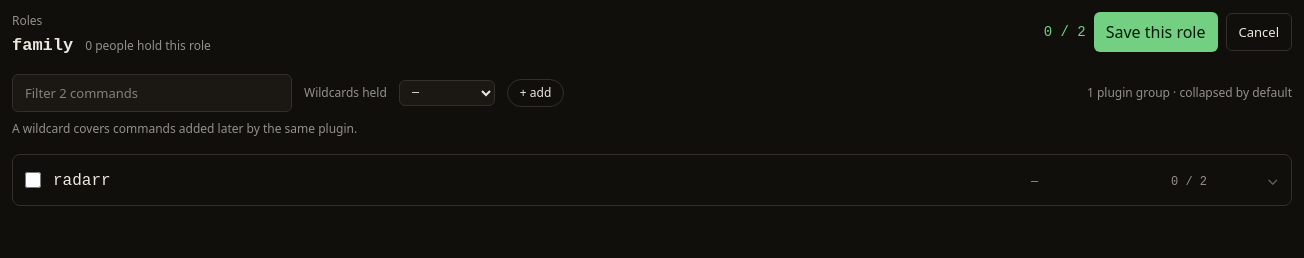
Test: the role editor screen › renders the save refusal in its own alert
Click the button "Save this role" at (1156, 32), box x1=1094 y1=12 x2=1218 y2=52
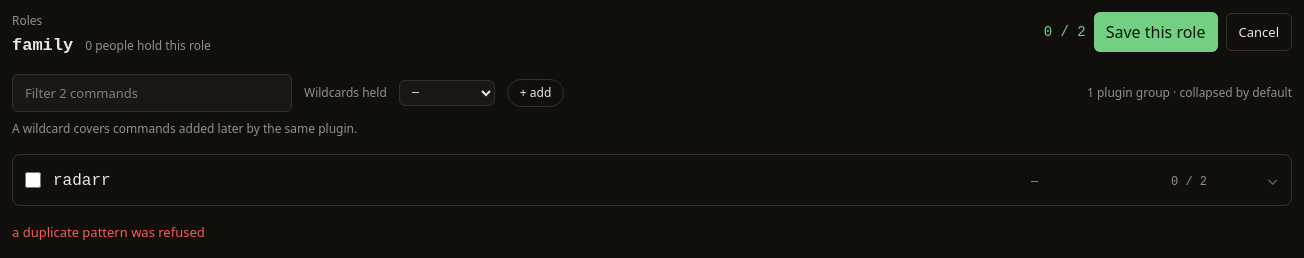
Check: the message reads "a duplicate pattern was refused", box x1=12 y1=223 x2=205 y2=241
